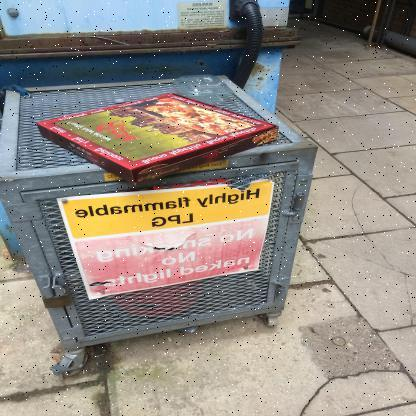cardboard: (36, 92, 280, 186)
plastic: (173, 75, 235, 104)
